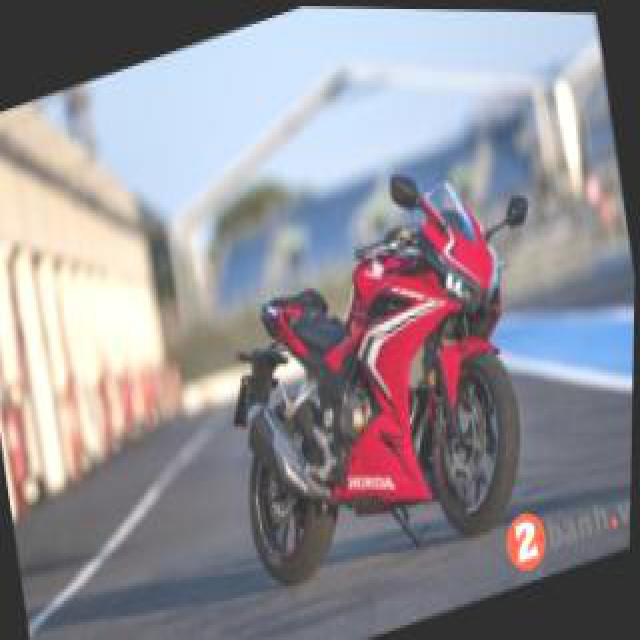CBR500R: (200, 155, 548, 608)
